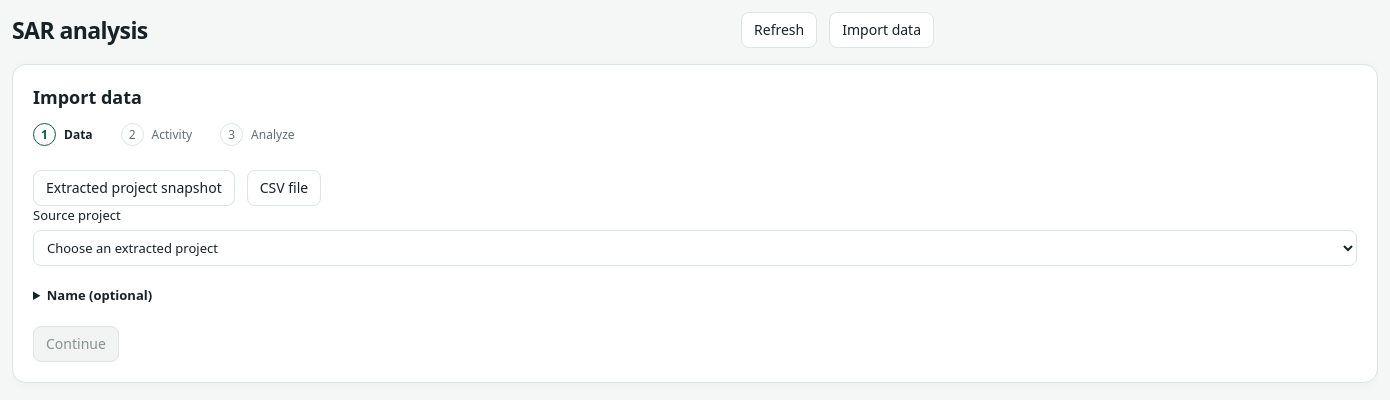
Test: SAR review: concise, explicit intake › hides the duplicate empty hero and picker only while the zero-dataset import is open
The image size is (1390, 400).
Expected: the text "No SAR datasets yet" is not shown
Expected: the field labelled "SAR datasets" is not shown
Step 1. Click the button "Import data" → (882, 30), box [829,12,934,48]
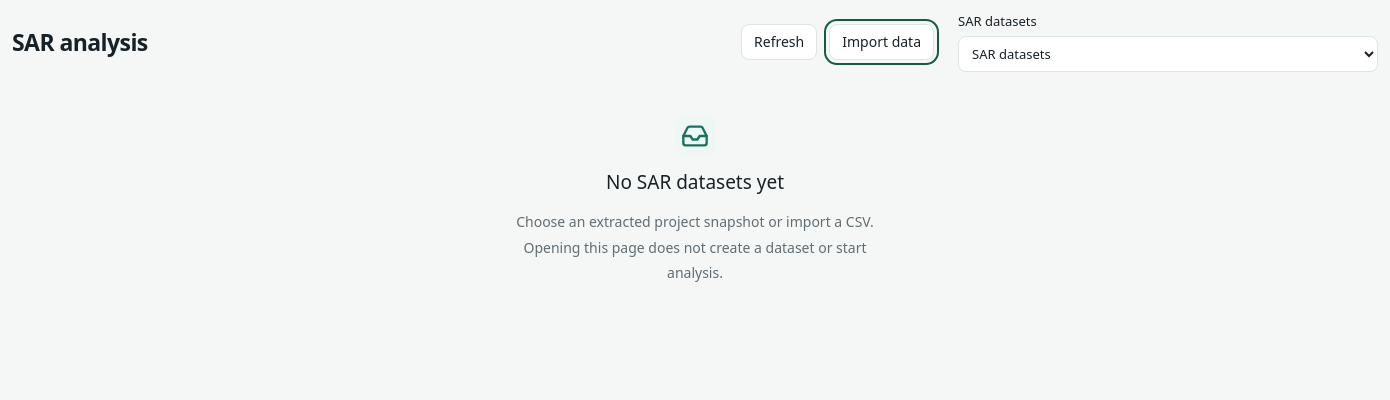
Expected: the heading "No SAR datasets yet" is shown, [606,168,784,197]
Expected: the dropdown labelled "SAR datasets" is shown, [958,36,1378,72]
